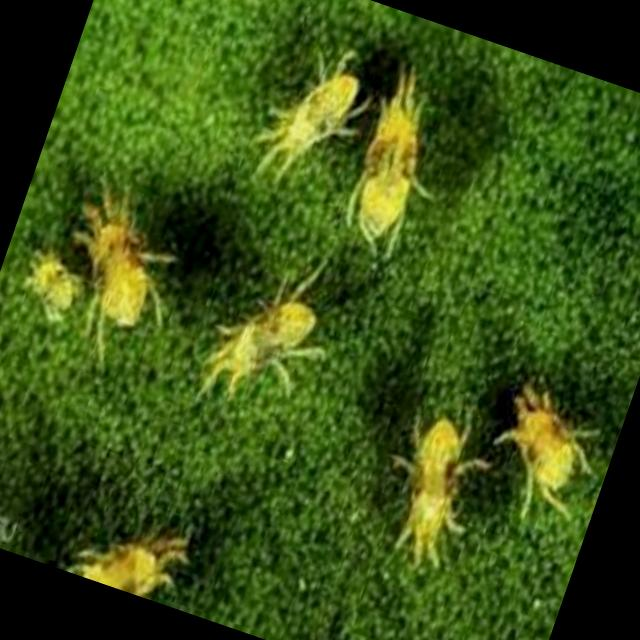spider mite: (284, 33, 496, 323), (57, 154, 230, 356), (214, 18, 390, 210), (188, 238, 342, 452), (366, 398, 502, 576), (47, 481, 226, 616), (485, 360, 631, 524), (0, 226, 104, 359)
